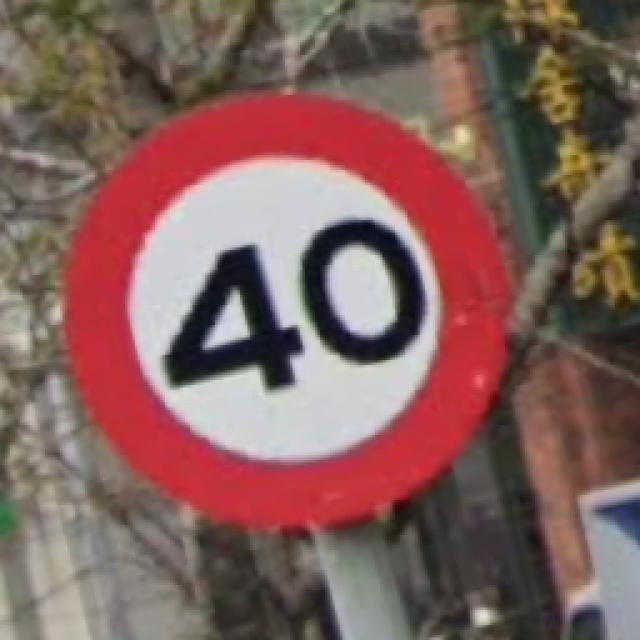Speed Limit -40-: (68, 95, 505, 522)
